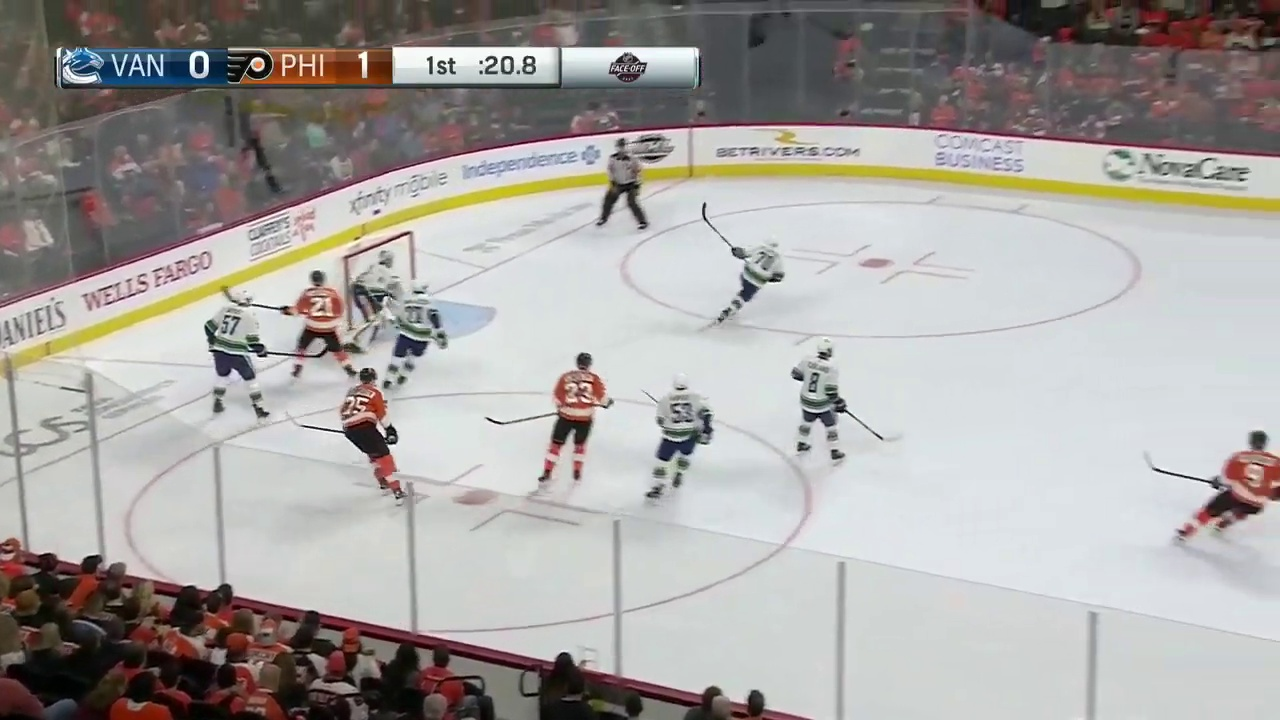goalie: (344, 250, 403, 353)
hockeyplayer: (1174, 431, 1280, 546), (539, 353, 613, 485), (340, 368, 408, 507), (645, 371, 713, 505), (204, 290, 270, 422), (281, 271, 357, 378), (791, 336, 848, 465), (383, 281, 448, 390), (717, 237, 785, 325)
referee: (597, 138, 649, 230)
